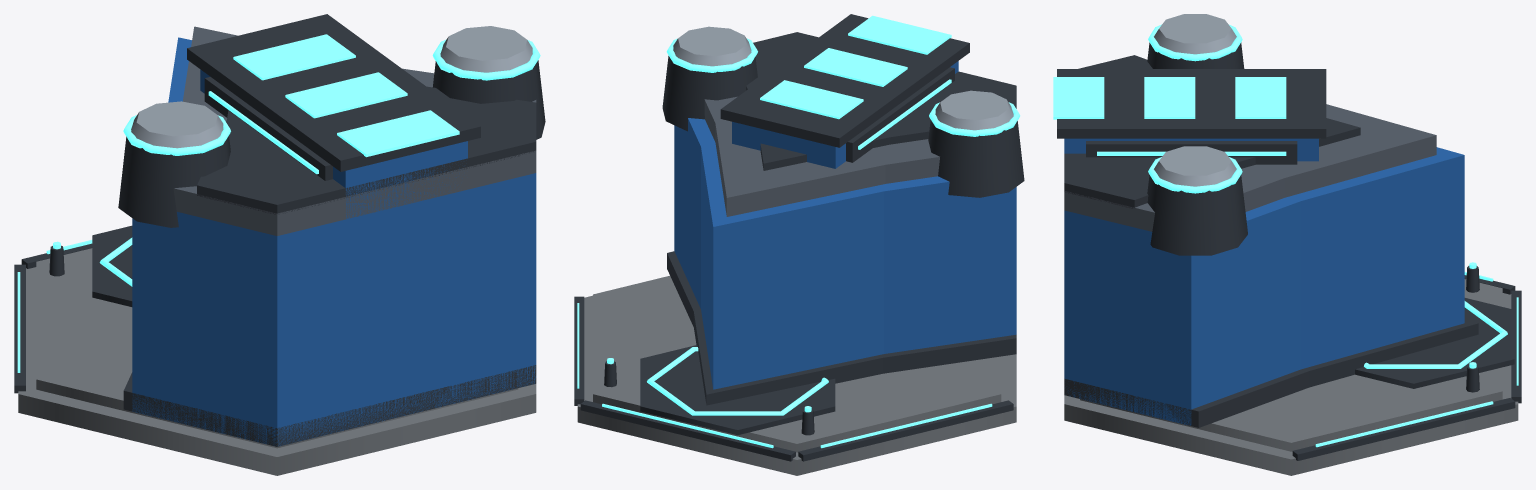
File: forge-depot-tile-n.glb
The picture shows the model from 3 angles, left to right: view 1: azimuth 30°, elevation 25°; view 2: azimuth 150°, elevation 25°; view 3: azimuth 270°, elevation 25°; orthographic projection. The views are drawn at different scales.
Visible parts, largest first — view 1: hull_body_n, base_plate_n, spine_cap_n, hull_crown_n, tile_deck_n, hull_roof_n, hull_skirt_n, pod_l, spine_n, pod_cap_l, pod_cap_r, pod_r (+9 smaller); view 2: hull_body_n, tile_deck_n, spine_cap_n, hull_roof_n, base_plate_n, fwd_pad, hull_skirt_n, pod_l, hull_crown_n, pod_r, pod_cap_r, pod_cap_l (+14 smaller); view 3: hull_body_n, tile_deck_n, spine_cap_n, hull_roof_n, base_plate_n, hull_skirt_n, pod_r, hull_crown_n, fwd_pad, spine_vent_n_r, pod_cap_r, pod_cap_l (+12 smaller).
Part boxes in pixels (x1,y1,x2,y2): hull_body_n: [132, 37, 536, 445]; base_plate_n: [18, 267, 536, 475]; spine_cap_n: [187, 14, 480, 171]; hull_crown_n: [197, 86, 536, 214]; tile_deck_n: [36, 248, 518, 448]; hull_roof_n: [173, 26, 536, 235]; hull_skirt_n: [123, 365, 536, 446]; pod_l: [118, 136, 230, 227]; spine_n: [200, 69, 467, 218]; pod_cap_l: [131, 101, 223, 148]; pod_cap_r: [440, 26, 532, 72]; pod_r: [433, 60, 545, 139]; hull_body_n: [674, 118, 1016, 389]; tile_deck_n: [593, 275, 1001, 452]; spine_cap_n: [720, 14, 969, 147]; hull_roof_n: [704, 96, 939, 216]; base_plate_n: [577, 295, 1016, 475]; fwd_pad: [640, 345, 835, 435]; hull_skirt_n: [667, 251, 1016, 405]; pod_l: [928, 120, 1024, 197]; hull_crown_n: [746, 32, 1016, 170]; pod_r: [662, 56, 757, 131]; pod_cap_r: [673, 26, 751, 66]; pod_cap_l: [935, 90, 1013, 130]; hull_body_n: [1064, 147, 1464, 425]; tile_deck_n: [1080, 279, 1502, 451]; spine_cap_n: [1057, 69, 1326, 138]; hull_roof_n: [1064, 104, 1436, 231]; base_plate_n: [1064, 293, 1518, 475]; hull_skirt_n: [1064, 319, 1478, 427]; pod_r: [1147, 175, 1247, 255]; hull_crown_n: [1064, 55, 1360, 208]; fwd_pad: [1355, 298, 1514, 388]; spine_vent_n_r: [1086, 141, 1297, 164]; pod_cap_r: [1154, 146, 1236, 186]; pod_cap_l: [1154, 14, 1236, 54].
Size of the model in its own units: 14.41 by 8.19 by 12.86.
